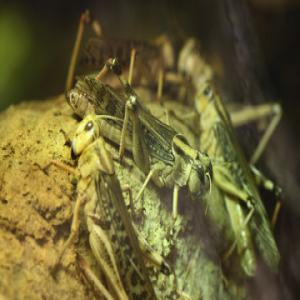locust: (184, 76, 288, 287), (59, 110, 157, 300)
